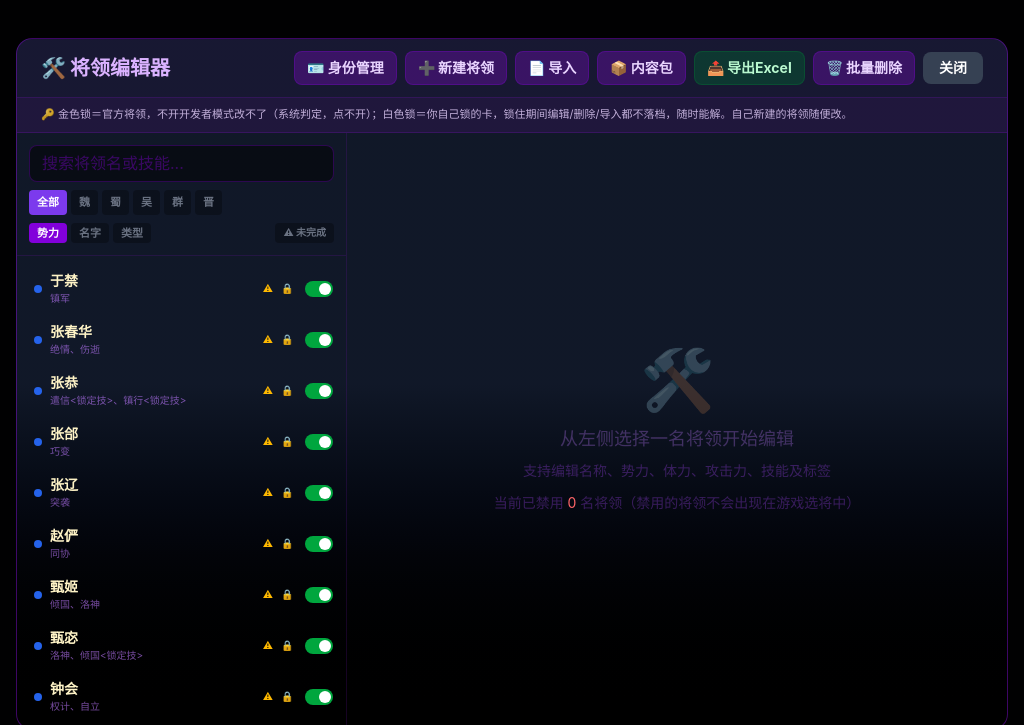
Scenario: SkillEditor: 官方将只读（开发者模式外） › 选中官方将=保存按钮禁用 + 只读说明在场
(page scrolled)
Click the button "张辽 突袭 ⚠ 🔒" at (38, 493), box [26, 469, 301, 516]
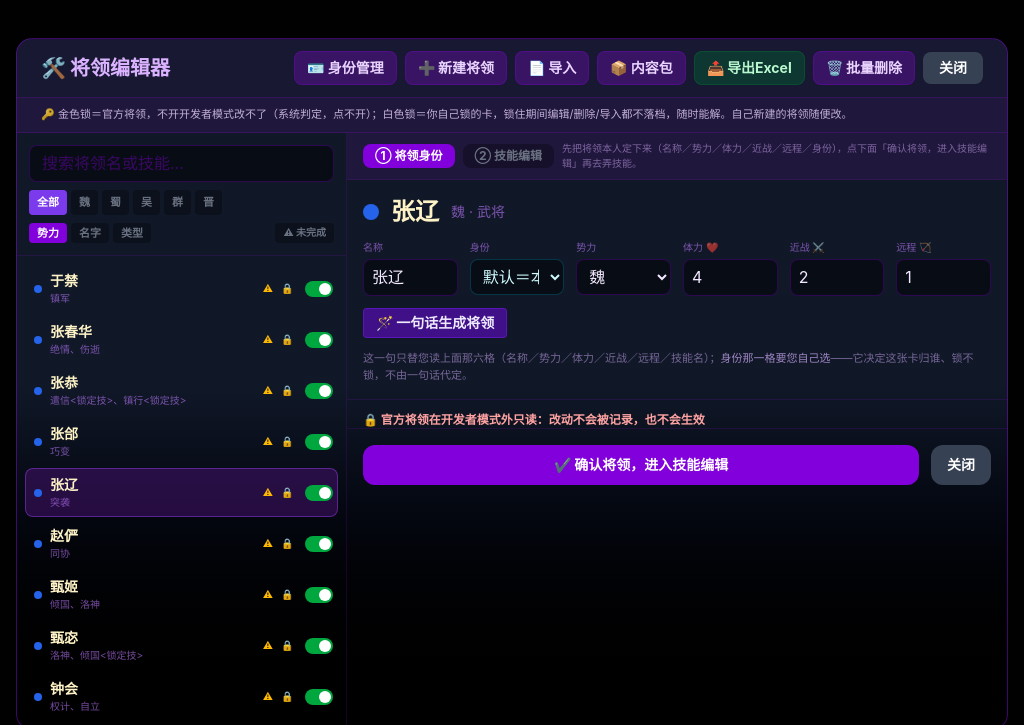
Click the button "② 技能编辑" at (508, 156), box [462, 144, 554, 168]
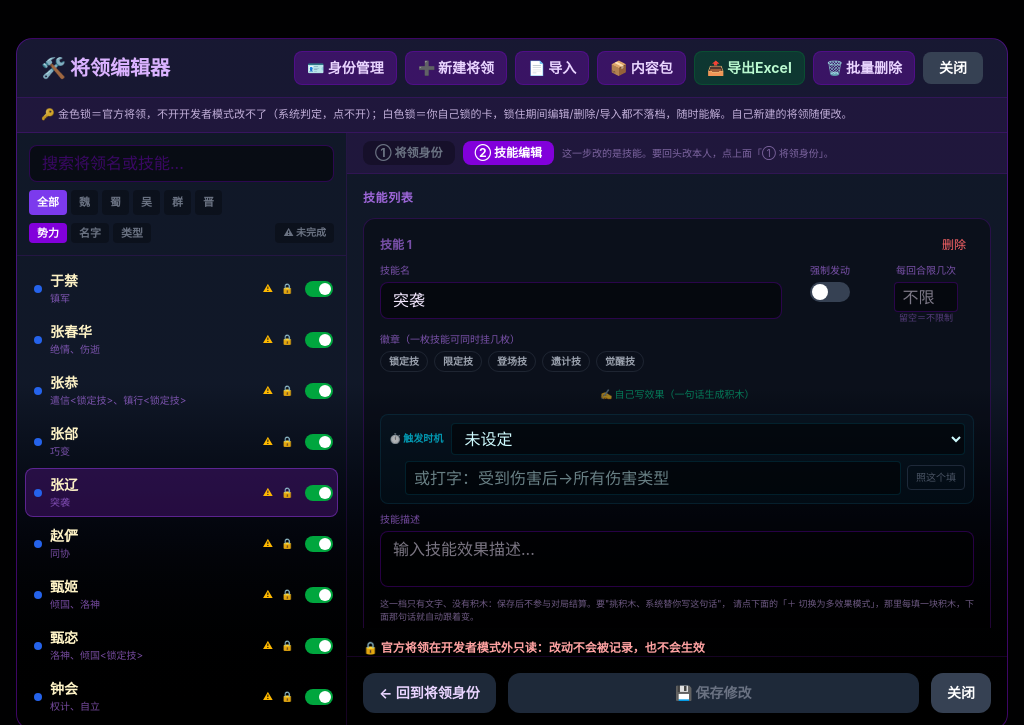
Expected: the text "🔒 官方将领在开发者模式外只读：改动不会被记录，也不会生效" is shown, [363, 640, 705, 656]
Expected: the button "💾 保存修改" is disabled, [508, 673, 919, 713]
